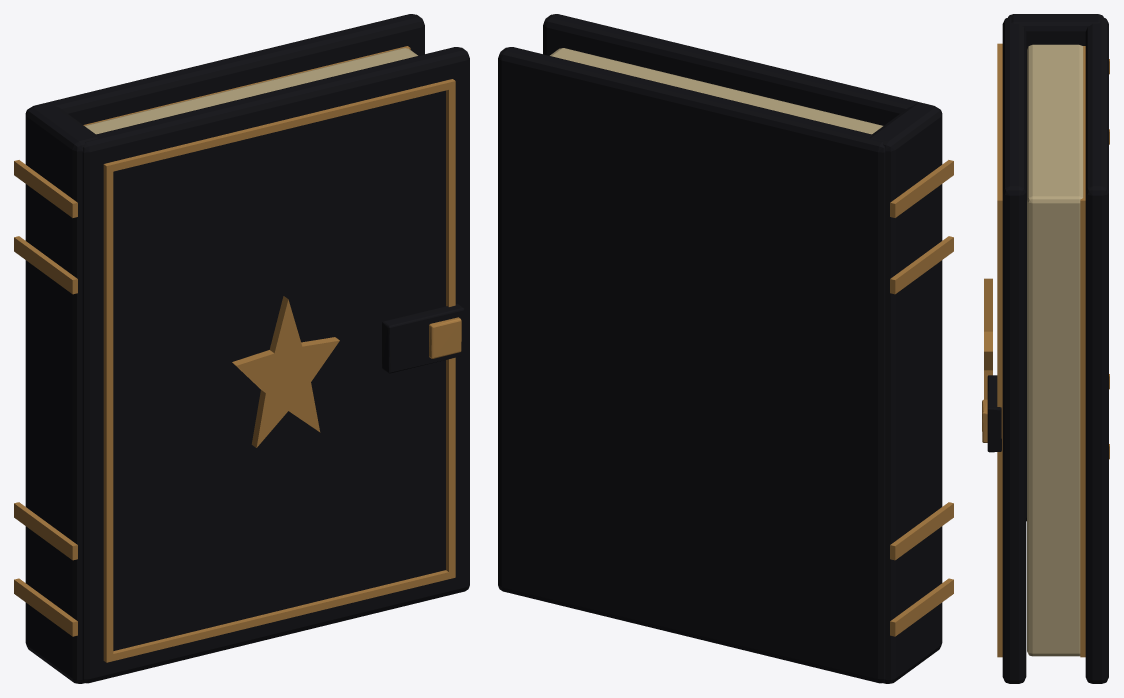
The model's file is malet_prop_ledger.fbx.
3 renders of one model, left to right at view 1: azimuth 30°, elevation 25°; view 2: azimuth 150°, elevation 25°; view 3: azimuth 270°, elevation 25°, orthographic. The views are drawn at different scales.
Parts seen in each view (by area): view 1: MaletLedger; view 2: MaletLedger; view 3: MaletLedger.
Part boxes in pixels (box(x1,y1,x2,y2)): MaletLedger: box(14, 14, 469, 683); MaletLedger: box(498, 14, 953, 683); MaletLedger: box(982, 14, 1109, 683).
Bounding box in the file's own units: 23.65 × 7.1 × 30.6.
Materials: 1 (1 with a texture image).
